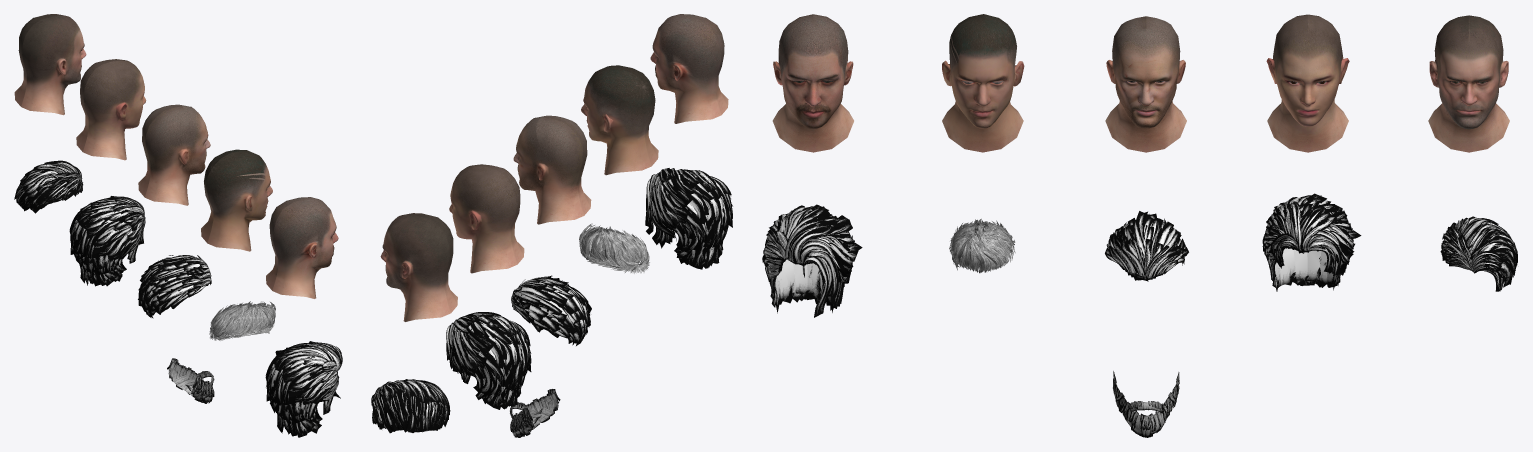
The model's file is hair_and_beard__pubg_mobile_3d_model.glb.
3 renders of one model, left to right at view 1: azimuth 30°, elevation 25°; view 2: azimuth 150°, elevation 25°; view 3: azimuth 270°, elevation 25°, orthographic. The views are drawn at different scales.
Visible parts, largest first — view 1: Mesh_0153.rip_10, Mesh_0794.rip_5, Mesh_0198.rip_2, Mesh_1801.rip_6, Mesh_0179.rip_3, Mesh_1384.rip_4, Mesh_1388.rip_9, Mesh_1288.rip_7, Mesh_0504.rip_11, Mesh_1654.rip_8, Mesh_0898.rip_1; view 2: Mesh_0153.rip_10, Mesh_0794.rip_5, Mesh_1801.rip_6, Mesh_0198.rip_2, Mesh_0179.rip_3, Mesh_1388.rip_9, Mesh_1384.rip_4, Mesh_1288.rip_7, Mesh_0504.rip_11, Mesh_1654.rip_8, Mesh_0898.rip_1; view 3: Mesh_0794.rip_5, Mesh_0179.rip_3, Mesh_1801.rip_6, Mesh_1384.rip_4, Mesh_0198.rip_2, Mesh_0153.rip_10, Mesh_1388.rip_9, Mesh_1288.rip_7, Mesh_0504.rip_11, Mesh_1654.rip_8, Mesh_0898.rip_1.
Part boxes in pixels (x1,y1,x2,y2): Mesh_0153.rip_10: (265,341,342,437); Mesh_0794.rip_5: (266,197,338,298); Mesh_0198.rip_2: (138,104,210,205); Mesh_1801.rip_6: (14,14,86,115); Mesh_0179.rip_3: (201,149,272,251); Mesh_1384.rip_4: (76,59,146,160); Mesh_1388.rip_9: (69,196,145,286); Mesh_1288.rip_7: (138,255,211,318); Mesh_0504.rip_11: (14,160,83,213); Mesh_1654.rip_8: (209,301,275,340); Mesh_0898.rip_1: (167,358,214,403); Mesh_0153.rip_10: (645,168,732,269); Mesh_0794.rip_5: (650,14,728,123); Mesh_1801.rip_6: (380,213,457,321); Mesh_0198.rip_2: (513,115,591,224); Mesh_0179.rip_3: (581,65,658,175); Mesh_1388.rip_9: (446,312,531,409); Mesh_1384.rip_4: (449,164,524,273); Mesh_1288.rip_7: (511,275,591,345); Mesh_0504.rip_11: (371,379,450,433); Mesh_1654.rip_8: (579,223,649,273); Mesh_0898.rip_1: (510,389,560,437); Mesh_0794.rip_5: (772,14,853,152); Mesh_0179.rip_3: (942,14,1024,152); Mesh_1801.rip_6: (1428,15,1509,152); Mesh_1384.rip_4: (1266,14,1349,152); Mesh_0198.rip_2: (1105,16,1186,152); Mesh_0153.rip_10: (762,204,862,317); Mesh_1388.rip_9: (1262,193,1361,291); Mesh_1288.rip_7: (1105,211,1188,281); Mesh_0504.rip_11: (1440,216,1517,291); Mesh_1654.rip_8: (949,218,1015,273); Mesh_0898.rip_1: (1113,371,1179,437).
Size of the model in its own units: 0.2607 by 0.9903 by 1.71.
11 materials, 11 textured.
